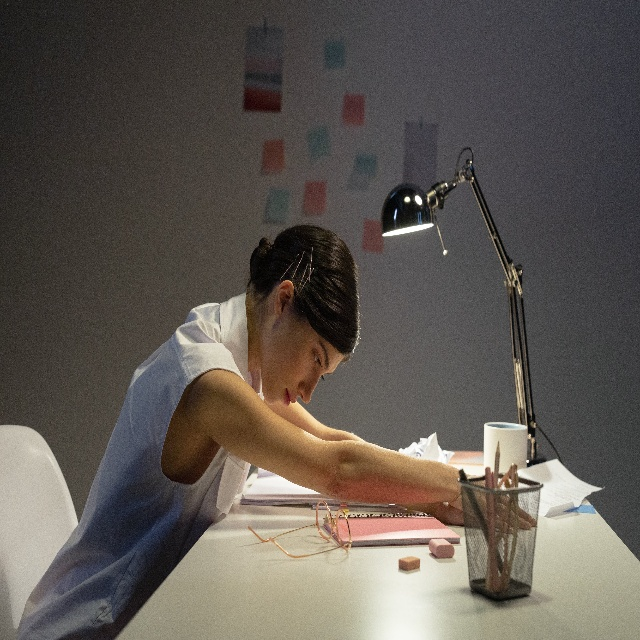Gafas: (248, 500, 352, 559)
Sin_guantes: (450, 468, 537, 534)
